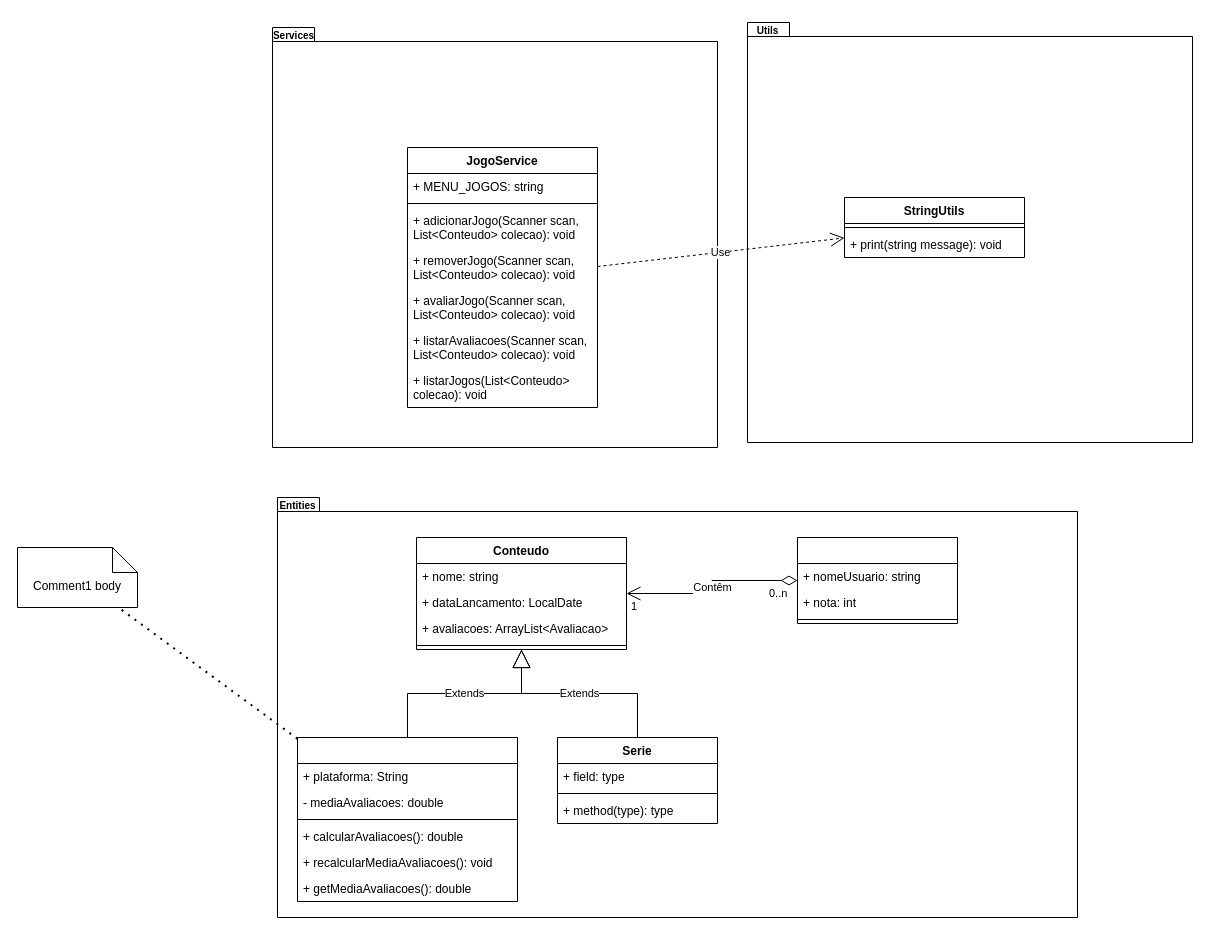
This 1210x935 diagram has some shape labels left out. Here are the shapes that lost their labels. From the top down, the box of each, then its label:
(796, 536, 958, 624): Avaliacao
(296, 736, 518, 902): Jogo
